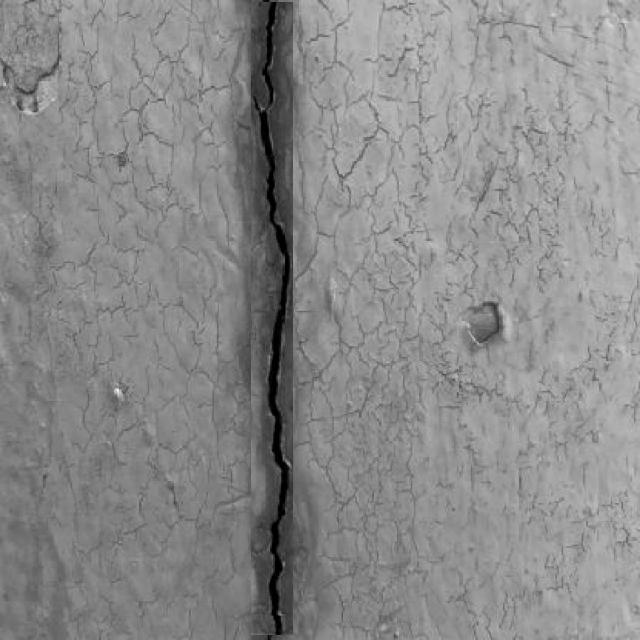Crack: (250, 0, 295, 639)
